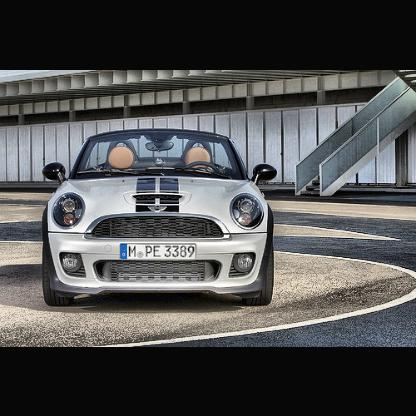MINI Cooper Roadster Convertible 2012: (45, 130, 278, 306)
